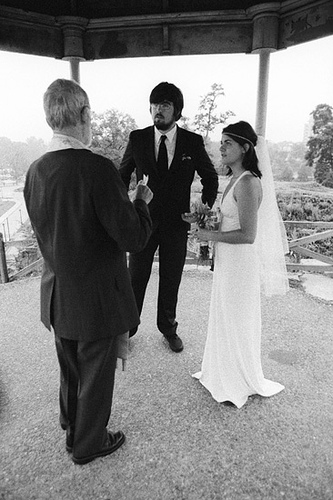without_mask: (216, 128, 257, 173), (145, 90, 185, 133)
